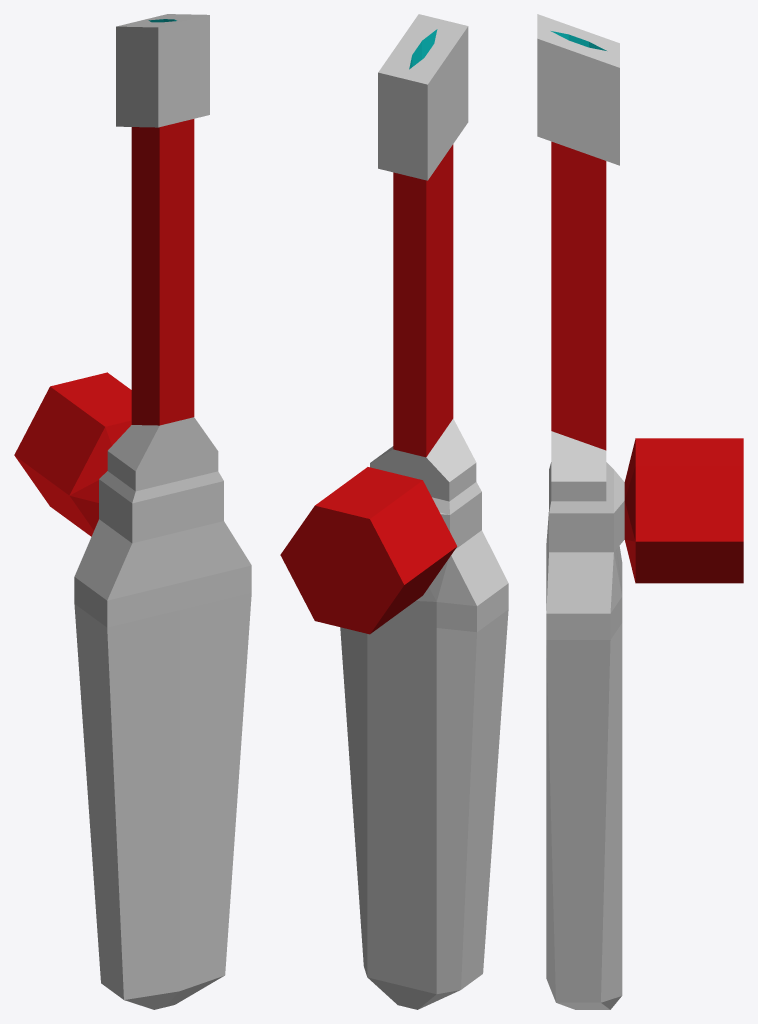
The model's file is Laser.fbx.
3 views of the same model, side by side, from view 1: azimuth 30°, elevation 25°; view 2: azimuth 150°, elevation 25°; view 3: azimuth 270°, elevation 25° (orthographic). The views are drawn at different scales.
Visible parts, largest first — view 1: Laser; view 2: Laser; view 3: Laser.
Part boxes in pixels (left/top/right/bottom): Laser: left=14, top=14, right=251, bottom=1009; Laser: left=280, top=14, right=508, bottom=1009; Laser: left=537, top=14, right=743, bottom=1009.
Size of the model in its own units: 151 by 1000 by 191.
